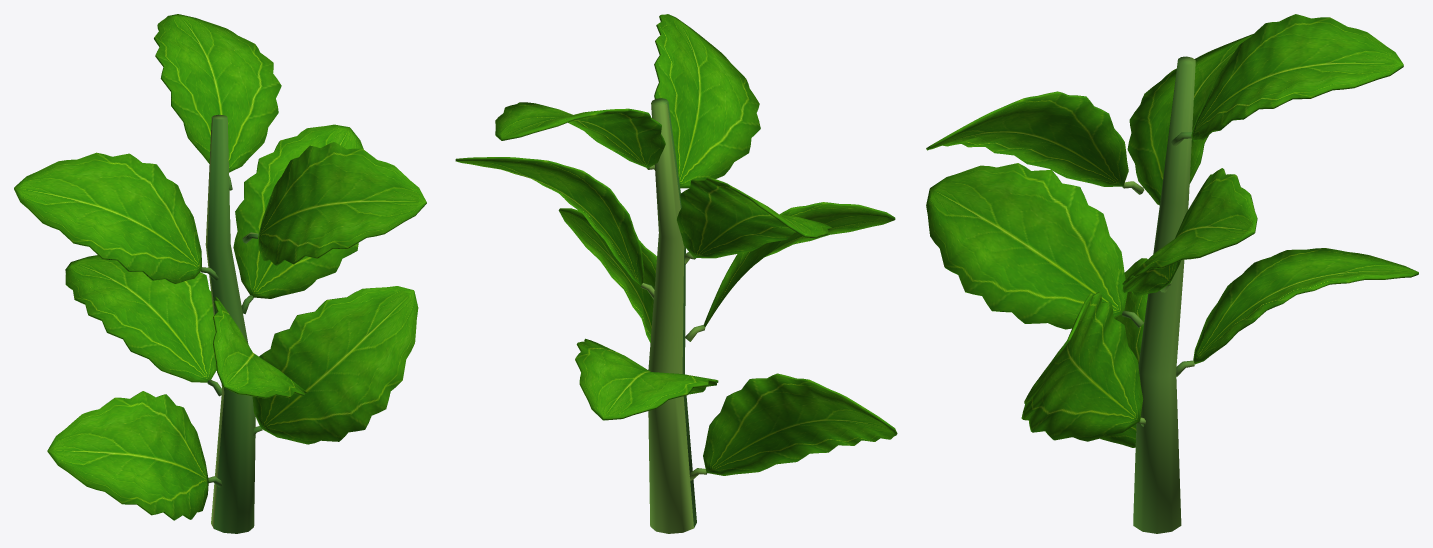
The model's file is NP_Hibiscus_Young.fbx.
3 views of the same model, side by side, from view 1: azimuth 30°, elevation 25°; view 2: azimuth 150°, elevation 25°; view 3: azimuth 270°, elevation 25° (orthographic). The views are drawn at different scales.
Visible parts, largest first — view 1: NP_Hibiscus_Young; view 2: NP_Hibiscus_Young; view 3: NP_Hibiscus_Young.
Part boxes in pixels (x1=…): NP_Hibiscus_Young: x1=14, y1=14, x2=426, y2=533; NP_Hibiscus_Young: x1=455, y1=14, x2=897, y2=533; NP_Hibiscus_Young: x1=926, y1=14, x2=1418, y2=533.
Size of the model in its own units: 32.17 by 37.6 by 33.32.
